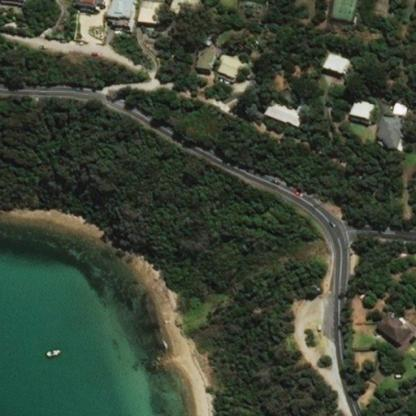ship: (40, 342, 64, 362)
